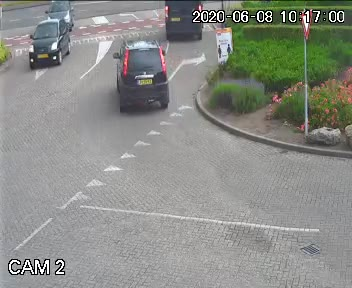car: (108, 32, 174, 117), (24, 17, 73, 68), (155, 0, 206, 45), (46, 1, 76, 34)
